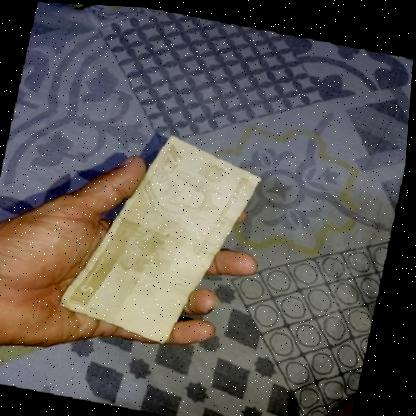five-back-vef: (59, 122, 269, 350)
